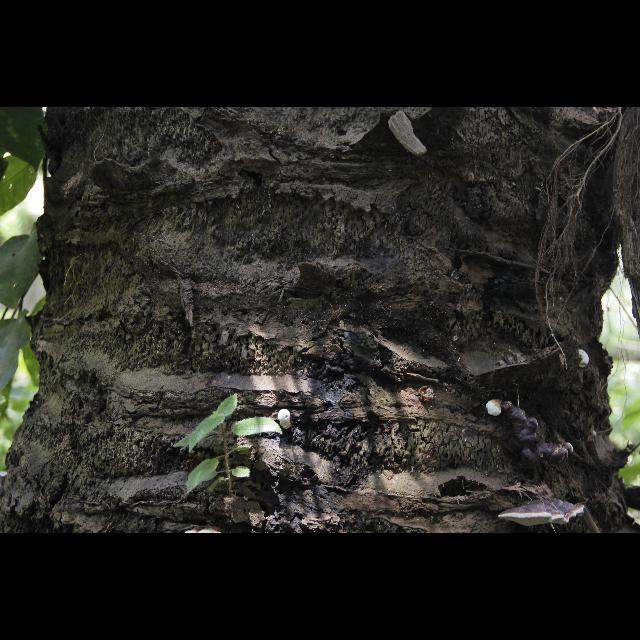ganoderma: (504, 402, 565, 473), (499, 497, 586, 529)
primordium: (278, 410, 294, 431), (487, 400, 503, 418), (579, 350, 591, 369), (566, 444, 575, 457)
